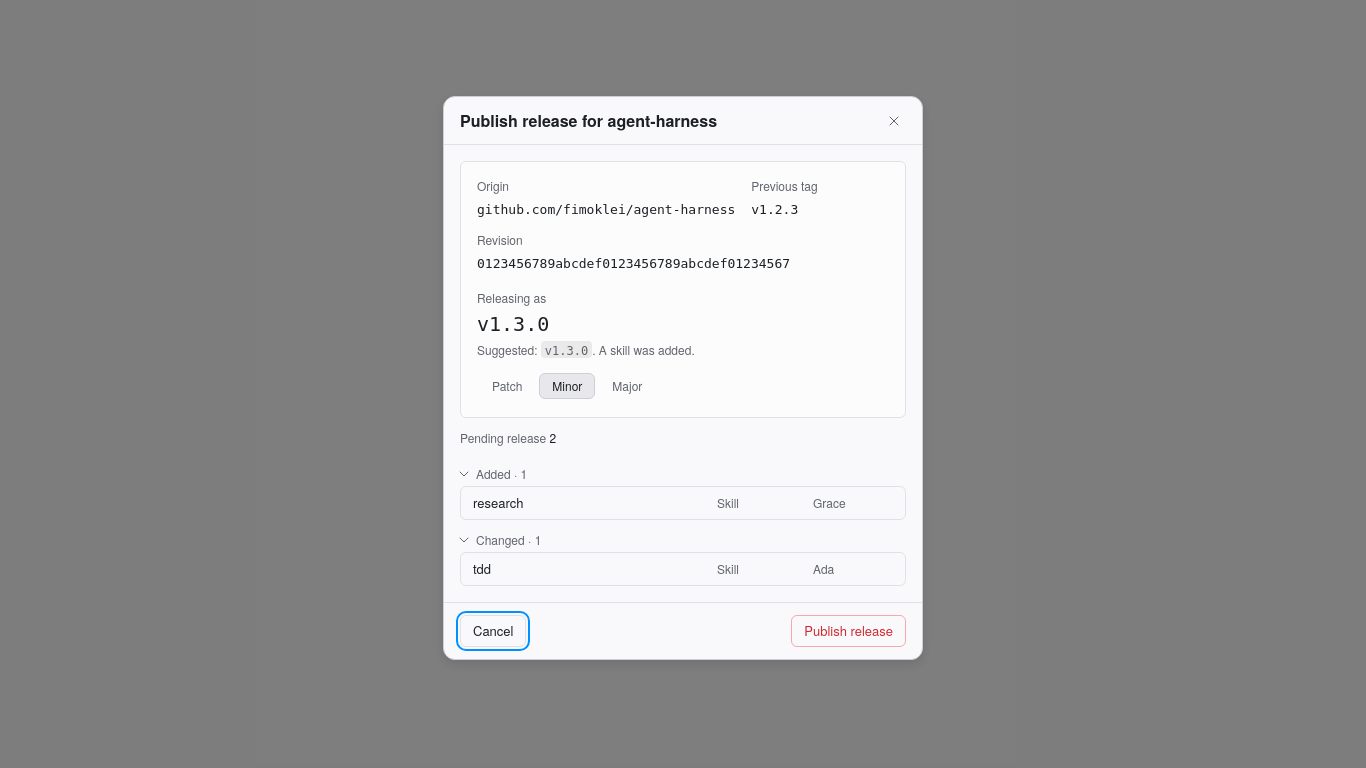
ReleaseDialog › folds a group and opens it again
Click the button "Added · 1" at (494, 474), box top-left (456, 462), bottom-right (531, 486)
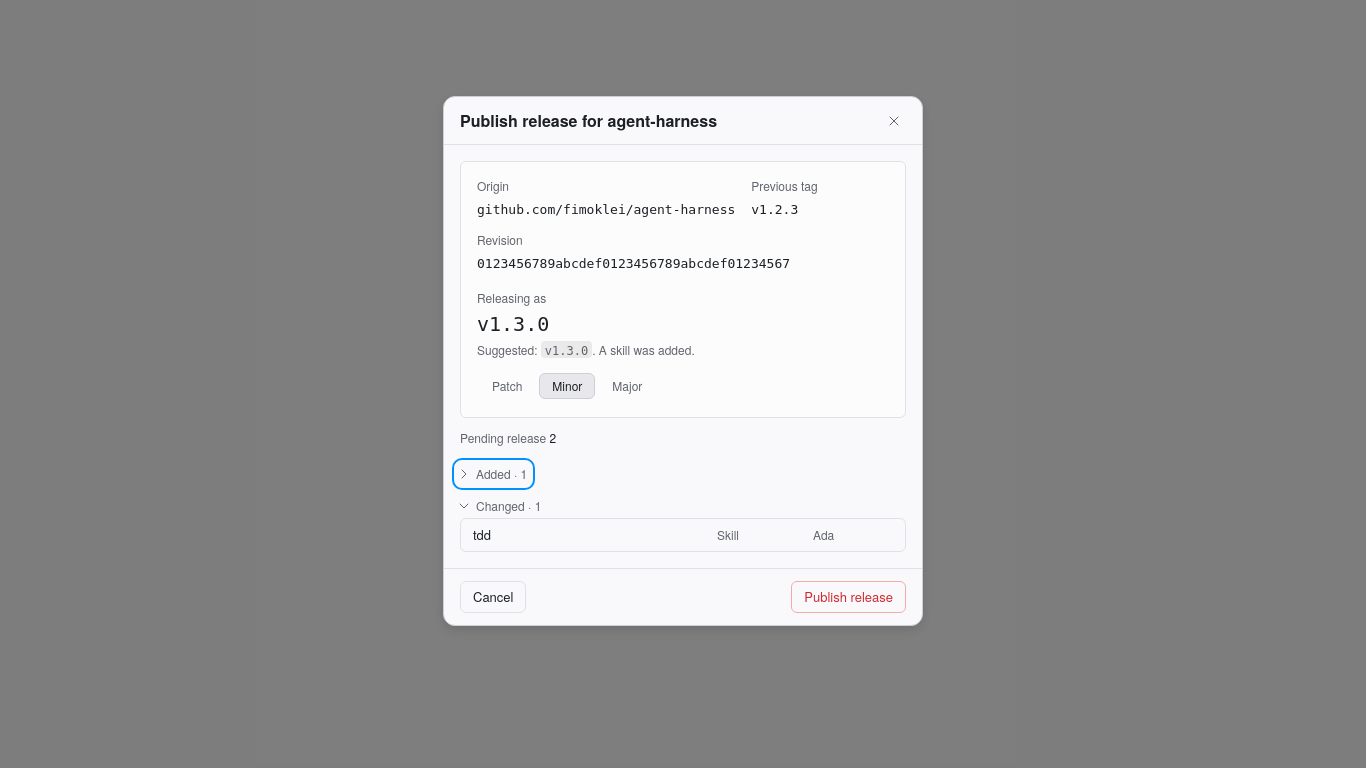
Expected: the text "tdd" is shown, top-left (473, 525), bottom-right (491, 544)
Now the text "research" is gone
Click the button "Added · 1" at (494, 474), box top-left (456, 462), bottom-right (531, 486)
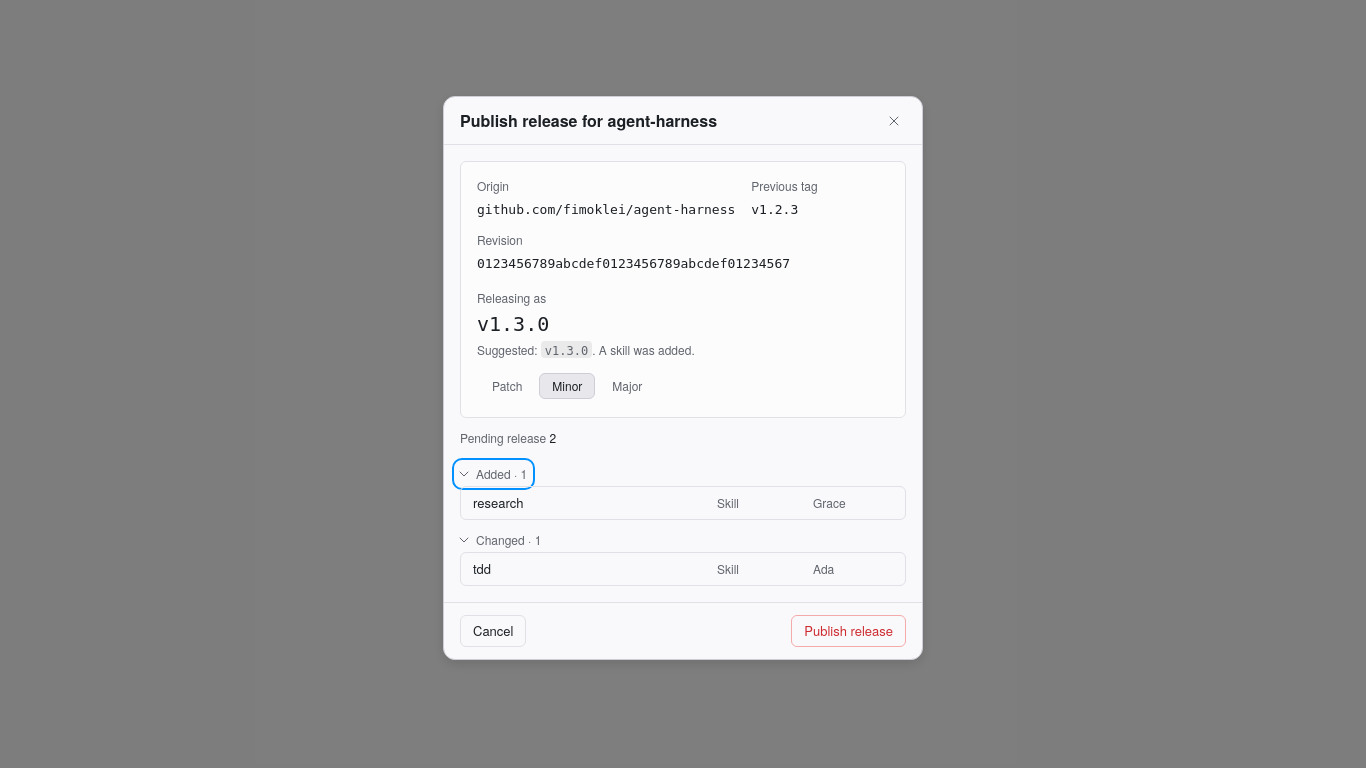
Now the text "research" is shown, box top-left (473, 493), bottom-right (523, 512)
